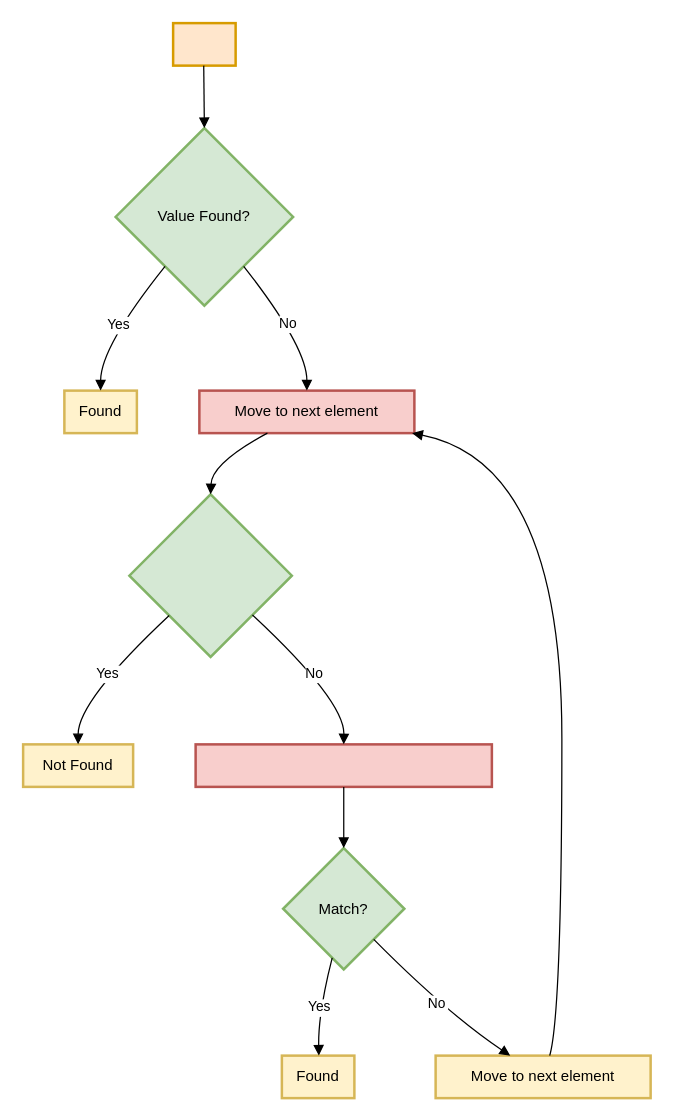
Some shapes in this 673 by 1120 pixel diagram are drawn without their labels. The centre of each missing label's shape, as x and y in pixels:
"Compare with current element" belongs at (343,765).
"End of List?" belongs at (210,575).
"Start" belongs at (203,43).
